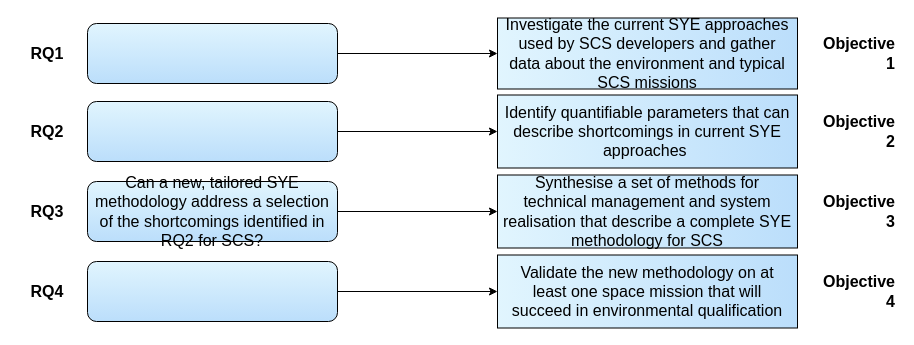
This 914x345 diagram has some shape labels left out. The shapes that lost their labels are listed below. From the top down, each one's centre as x and y in pixels, then its label:
At point 212,53: "What are the current SYE approaches used by SCS developers?".
At point 212,131: "What are the shortcomings of SYE approaches used by SCS developers?".
At point 212,291: "Is the SYE methodology developed in RQ3 effective in practical scenarios?".
